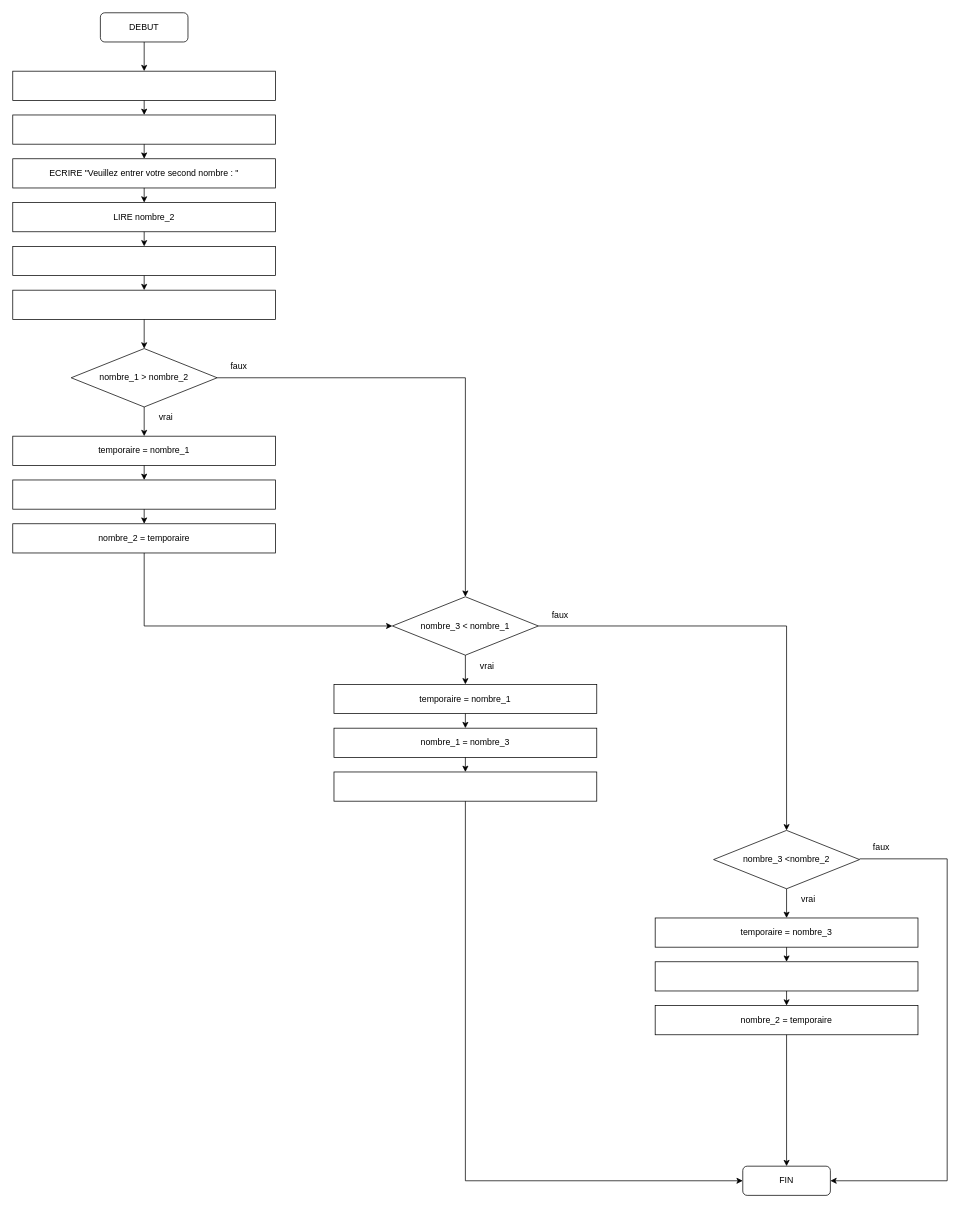
Some shapes in this 966 by 1208 pixel diagram are drawn without their labels. Here are the shapes that lost their labels. From the top down, the centre of each, then its label:
(144,85): ECRIRE "Veuillez entrer votre premier nombre : "
(144,129): LIRE nombre_1
(144,261): ECRIRE "Veuillez entrer votre troisième nombre : "
(144,304): LIRE nombre_3
(144,494): nombre_1 = nombre_2
(465,786): nombre_3 = temporaire
(786,976): nombre_3 = nombre_2
